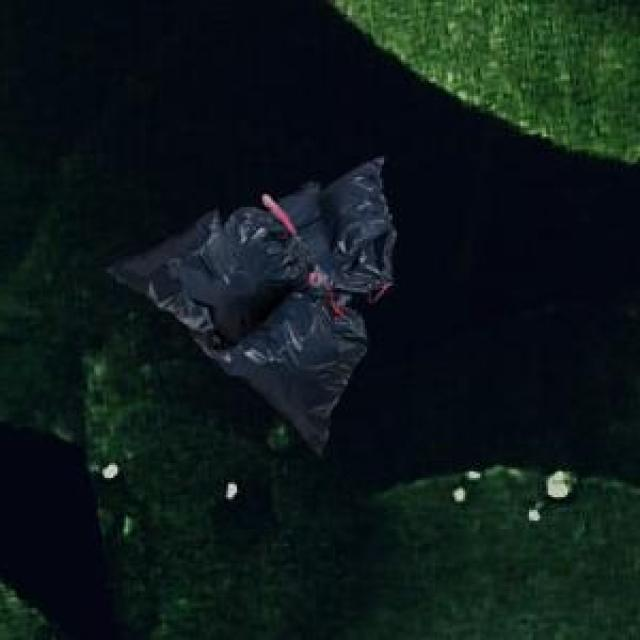Trashbag: (133, 210, 287, 326), (270, 168, 398, 306), (250, 296, 364, 432)
